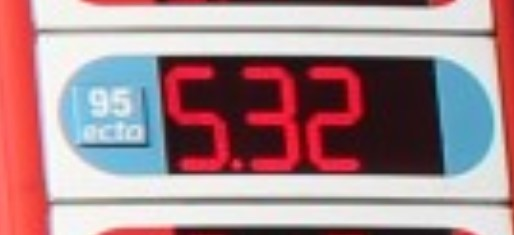digits: (297, 40, 381, 187), (229, 44, 303, 185), (158, 50, 232, 180)
